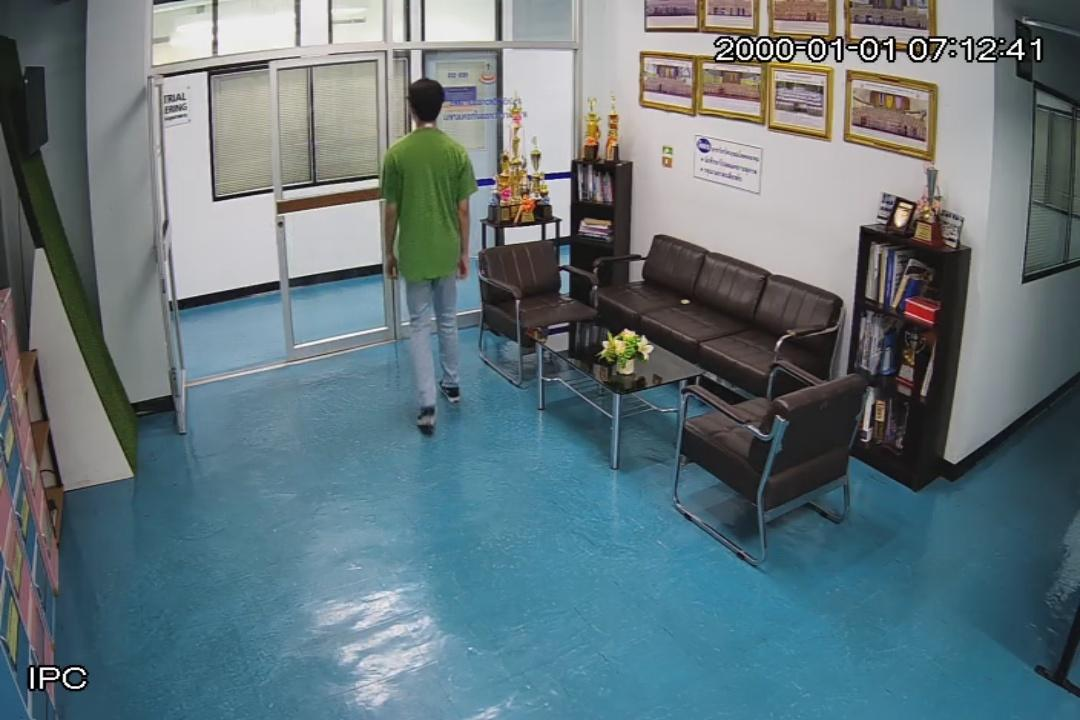normal: (380, 77, 482, 432)
